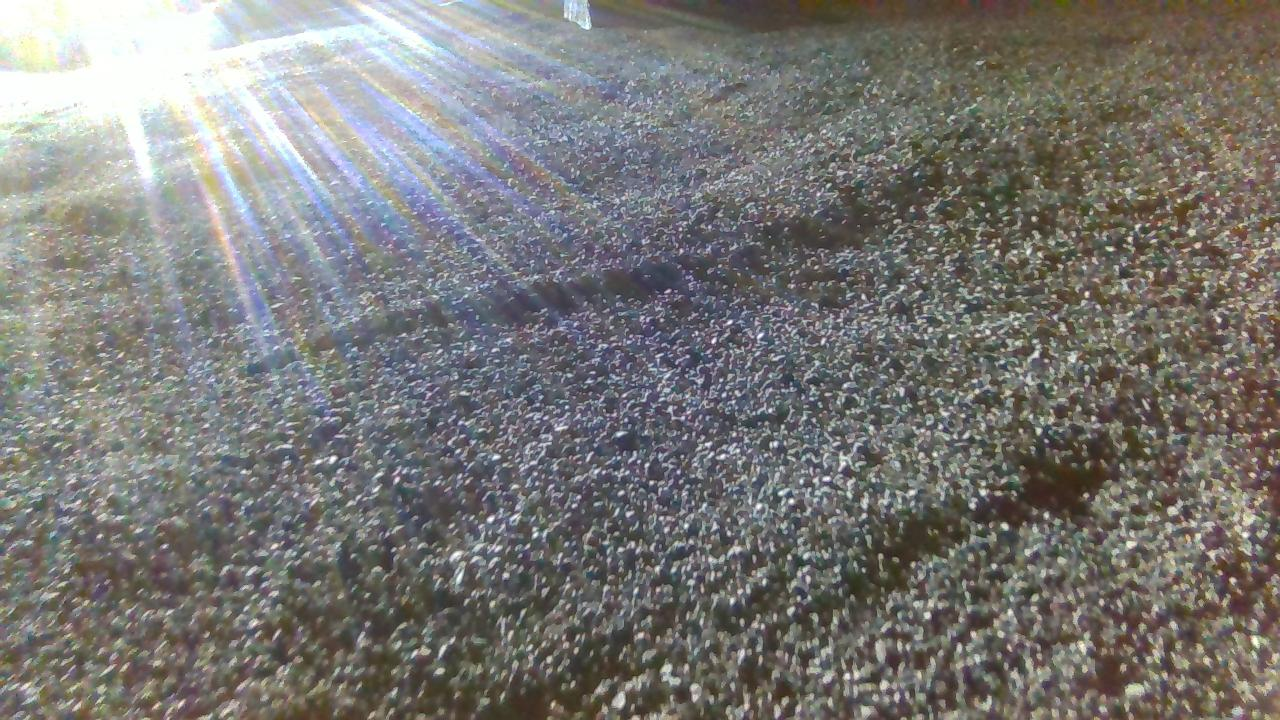rock: (564, 0, 590, 28)
